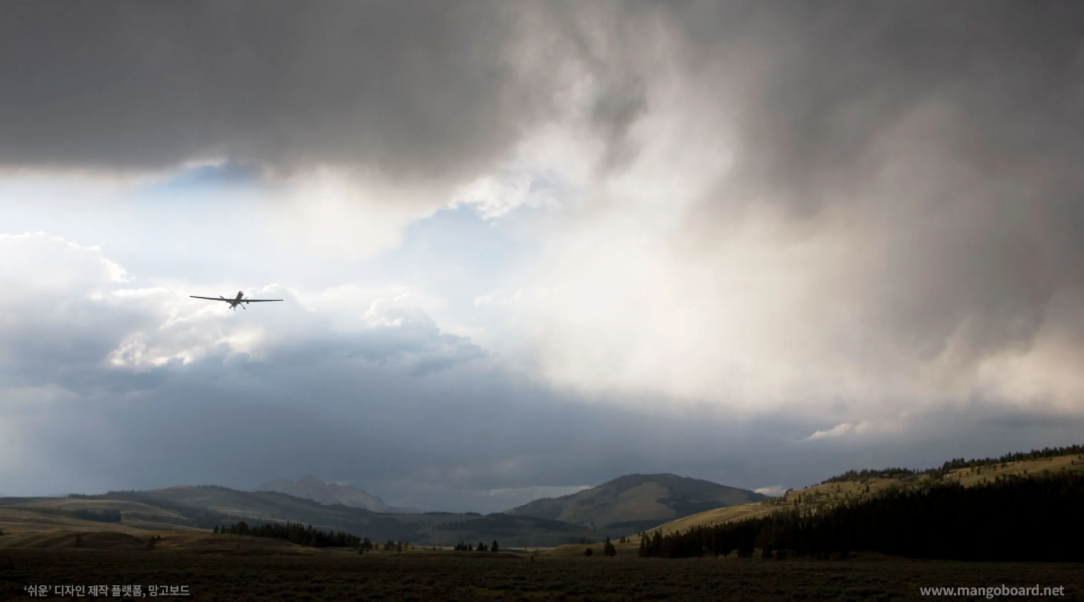military drone: (189, 290, 284, 311)
